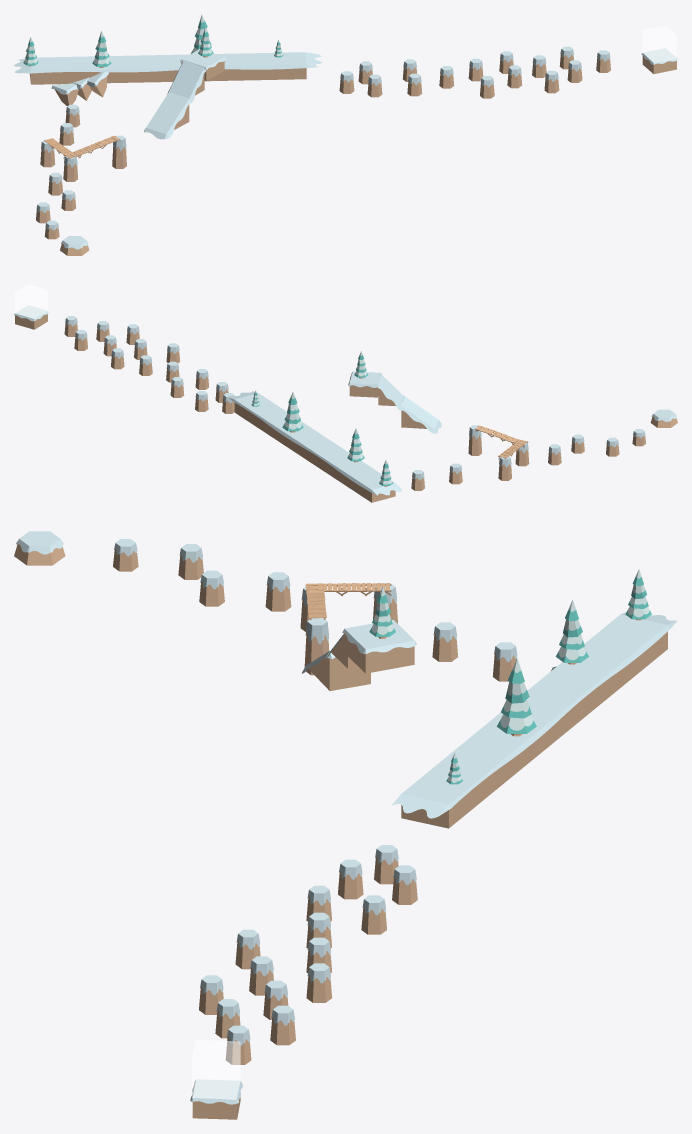
File: map5.glb
The picture shows the model from 3 angles, top to bottom: view 1: azimuth 30°, elevation 25°; view 2: azimuth 150°, elevation 25°; view 3: azimuth 270°, elevation 25°; orthographic projection. The views are drawn at different scales.
Parts seen in each view (by area): view 1: Mesh blockSnowLarge_1 (×3), Mesh blockSnowLarge_0, Mesh blockSnowSlope_0 (×2), end; view 2: Mesh blockSnowLarge_1 (×2), Mesh blockSnowLarge_0, Mesh blockSnowSlope_0 (×2), end; view 3: Mesh blockSnowLarge_1 (×3), Mesh blockSnowLarge_0 (×2), end, Mesh blockSnowSlope_1, Mesh treePineSnowRound_1.
Boxes of the visible parts, left/top/right/bottom form: Mesh blockSnowLarge_1 (×3): left=14, top=48, right=677, bottom=73; Mesh blockSnowLarge_0: left=29, top=68, right=306, bottom=84; Mesh blockSnowSlope_0 (×2): left=144, top=60, right=205, bottom=139; end: left=642, top=25, right=676, bottom=62; Mesh blockSnowLarge_1 (×2): left=228, top=371, right=401, bottom=495; Mesh blockSnowLarge_0: left=234, top=403, right=395, bottom=502; Mesh blockSnowSlope_0 (×2): left=378, top=374, right=441, bottom=433; end: left=15, top=284, right=47, bottom=318; Mesh blockSnowLarge_1 (×3): left=190, top=612, right=677, bottom=1104; Mesh blockSnowLarge_0 (×2): left=344, top=631, right=667, bottom=828; end: left=192, top=1039, right=240, bottom=1099; Mesh blockSnowSlope_1: left=308, top=657, right=370, bottom=690; Mesh treePineSnowRound_1: left=500, top=658, right=533, bottom=730.
Size of the model in its own units: 1479 by 222 by 744.
